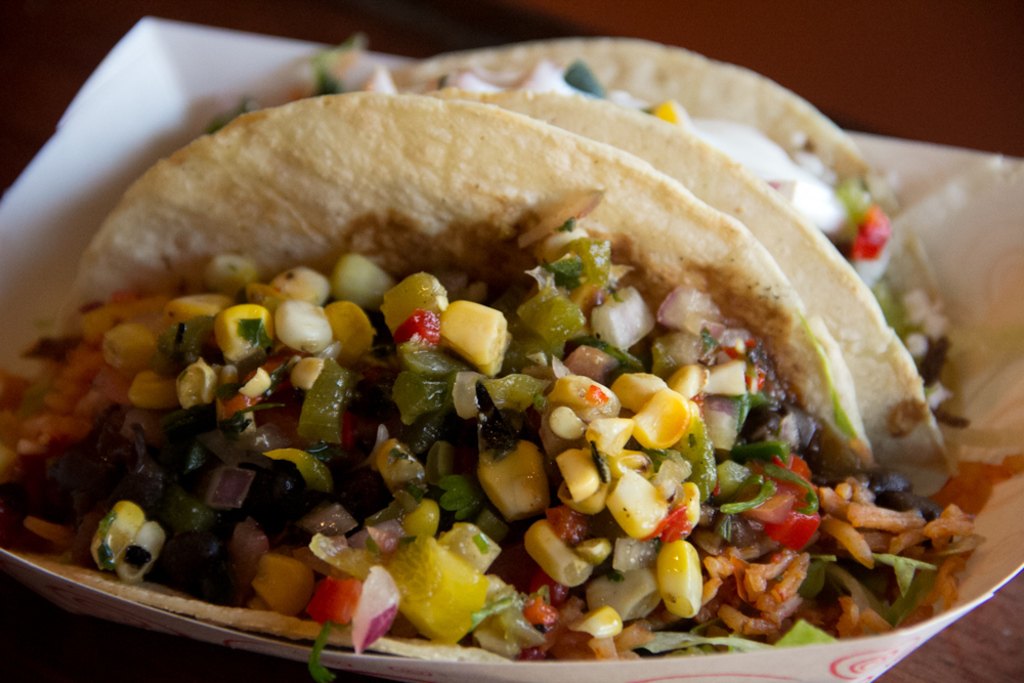taco: (0, 87, 873, 663), (300, 39, 946, 468)
